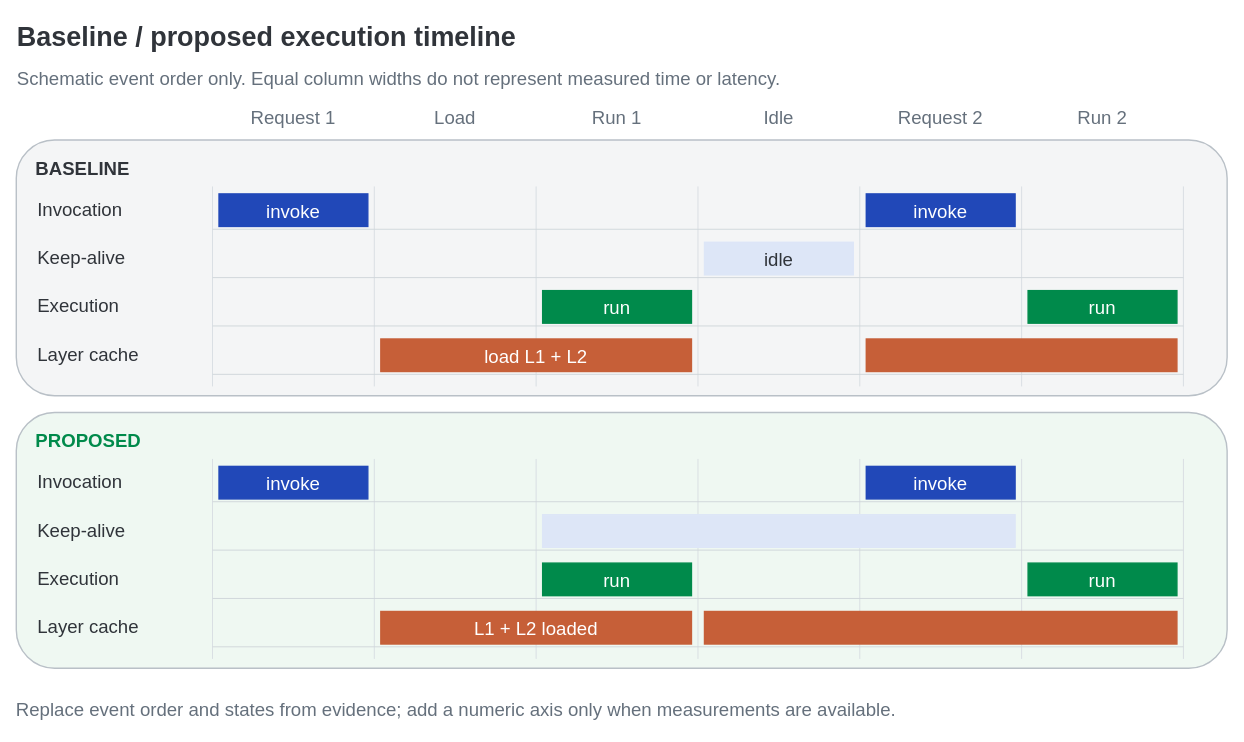
This 1244x742 diagram has some shape labels left out. The box of each missing label's shape, as (x1, y1, x2, y2) in pixels:
L1 + L2 retained: (703, 610, 1177, 644)
reload L1 + L2: (865, 338, 1177, 372)
retained: (542, 514, 1015, 548)
